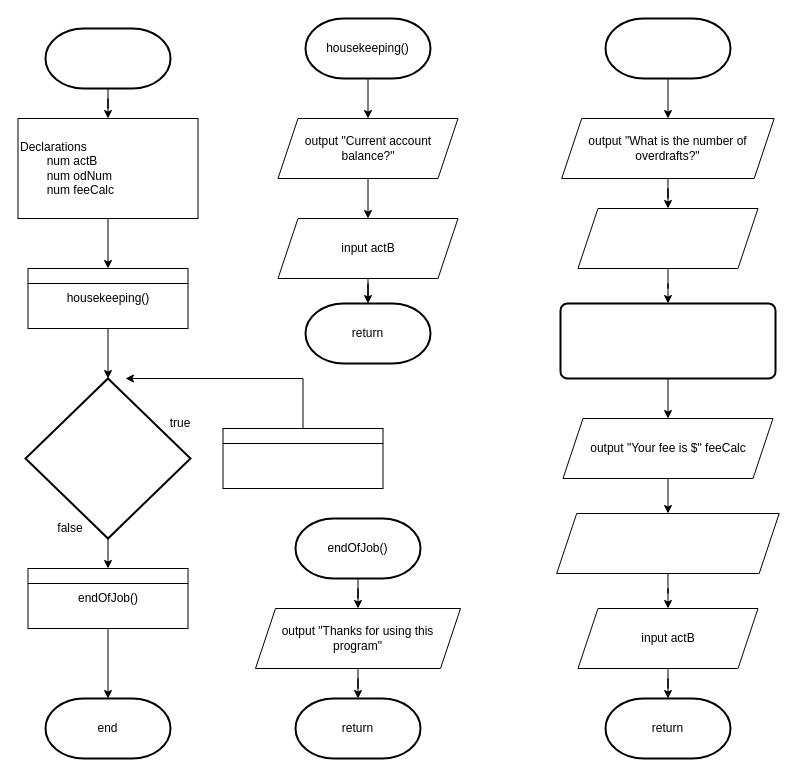
The diagram is 797 pixels wide and 776 high, and some of its shapes have lost their labels. Each missing label, with the box of its shape:
actB >= 0: (24, 377, 191, 539)
detailLoop(): (222, 428, 383, 488)
detaiLoop(): (604, 17, 731, 79)
feeCalc = (actB(.01))+(5(odNum)): (559, 302, 776, 379)
input odNum: (577, 208, 758, 268)
output "Next account balance?": (556, 512, 779, 574)
start: (44, 27, 171, 89)
